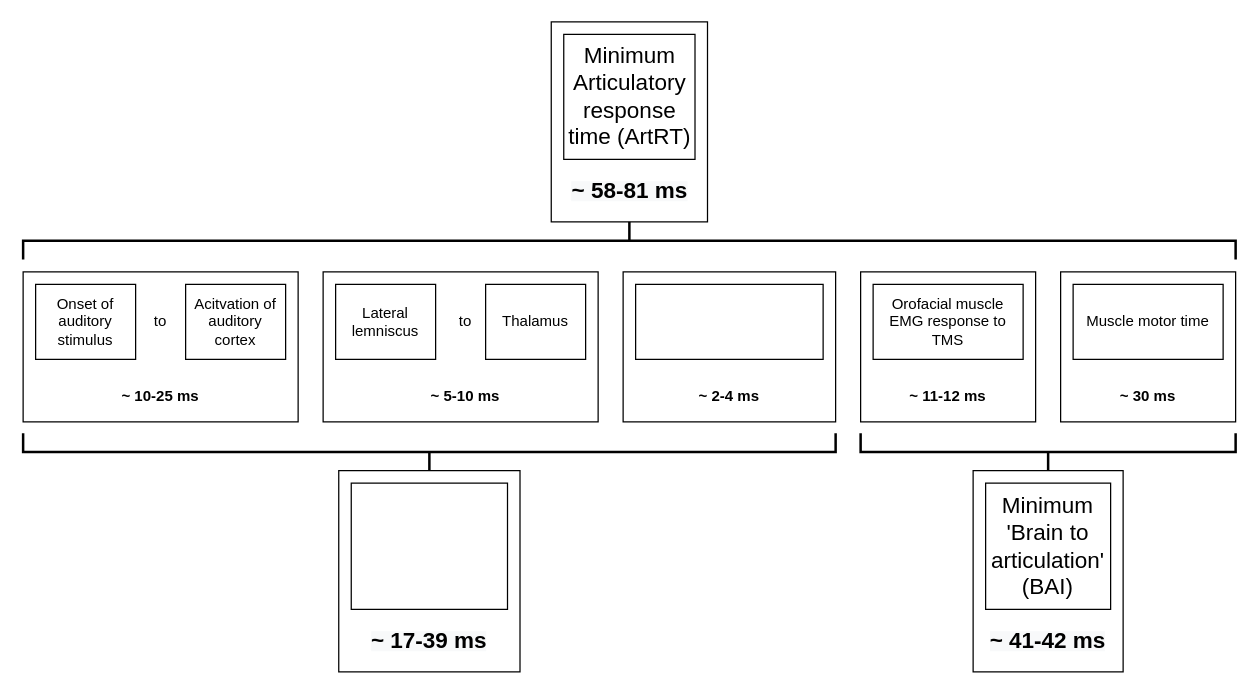
This 1258x694 diagram has some shape labels left out. Each missing label, with the centre of its shape:
Minimum 'Brain response time' (BrainRT): the point at 429,545
Transcortical and thalamus-primary moter cortex transmissions: the point at 728,321
